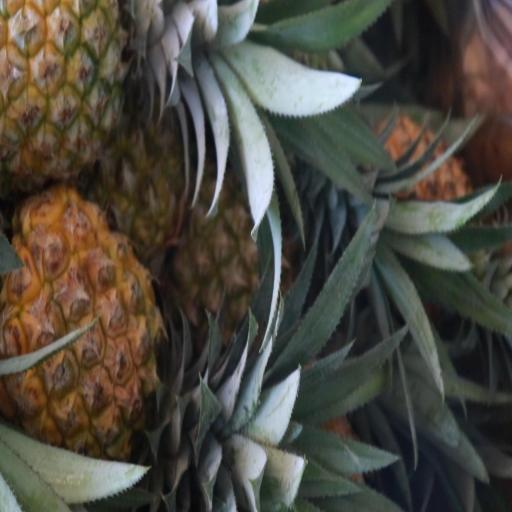Pineapple - v8 v1: (0, 193, 185, 465), (0, 0, 167, 171), (177, 166, 290, 360)
